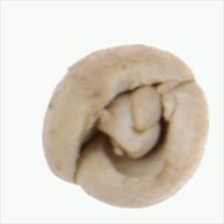L3: (77, 78, 169, 175)
L4: (42, 45, 209, 209)
